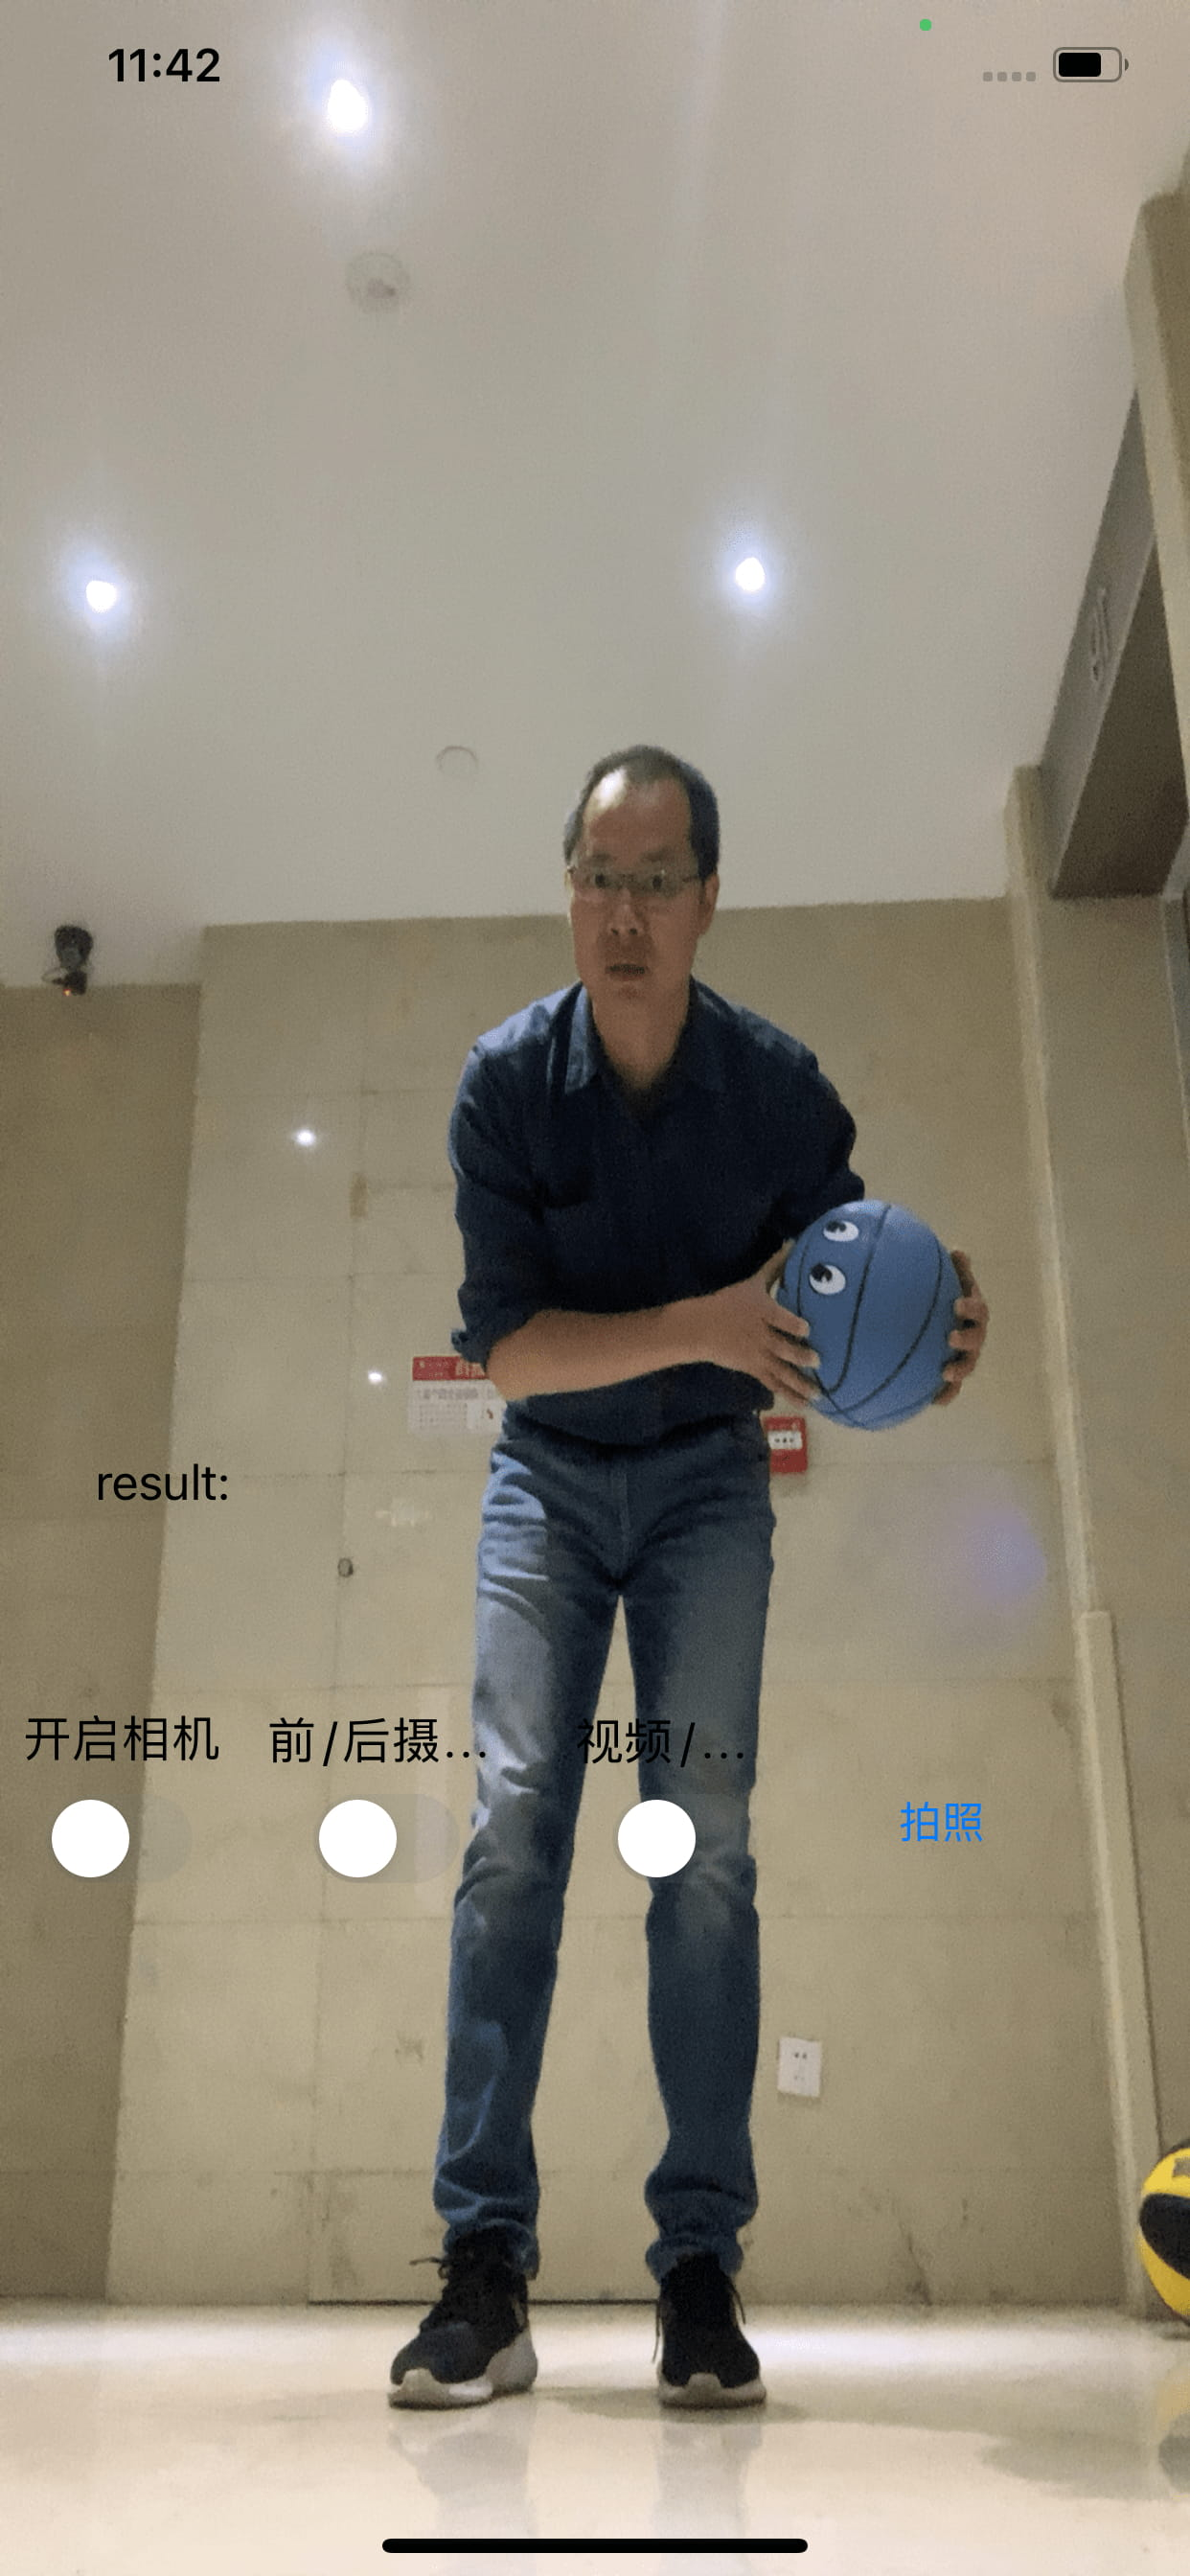ball: (769, 1191, 973, 1428)
